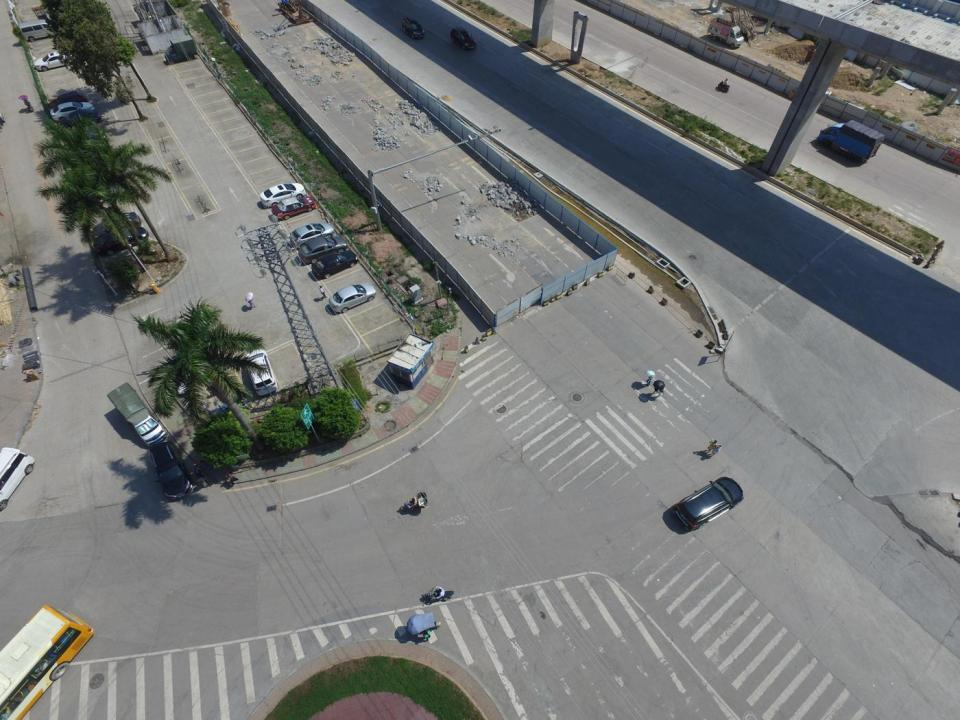bus: (0, 604, 94, 718)
car: (674, 476, 743, 530), (150, 441, 191, 500), (93, 227, 149, 257), (245, 348, 278, 397), (329, 281, 375, 315), (297, 236, 346, 265), (92, 212, 141, 239), (313, 250, 357, 278), (291, 222, 335, 248), (176, 369, 220, 394), (258, 183, 304, 206), (50, 100, 94, 123), (273, 196, 315, 220), (34, 50, 77, 71), (57, 108, 102, 128), (451, 26, 477, 50), (52, 91, 85, 109), (401, 16, 425, 40)
van: (107, 382, 168, 446), (818, 120, 884, 163), (0, 446, 34, 511), (708, 18, 744, 46), (18, 20, 59, 41), (165, 36, 196, 63)
